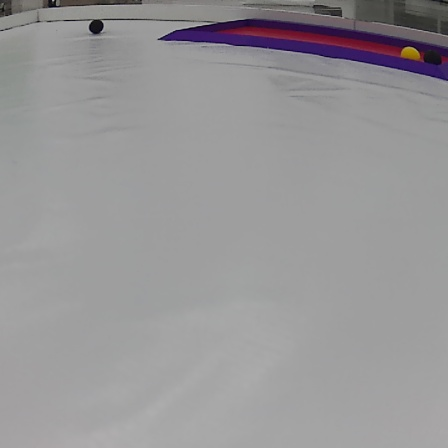black: (425, 50, 441, 66), (87, 19, 103, 31)
red_aim: (167, 12, 448, 84)
yellow: (401, 43, 419, 63)
